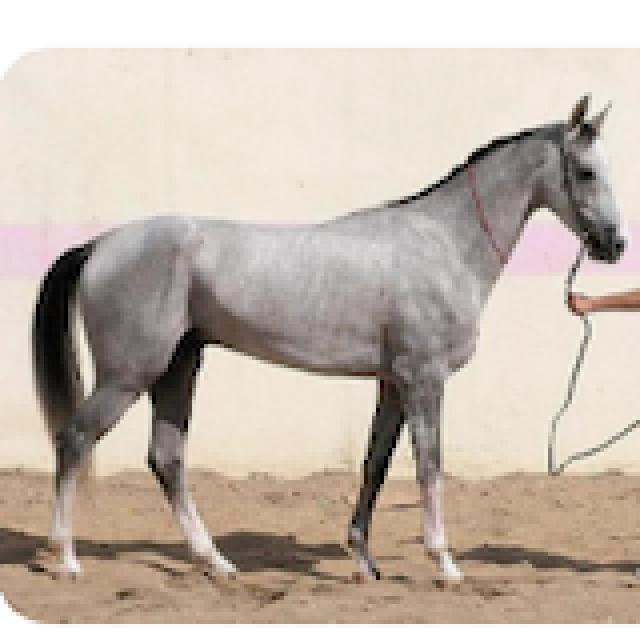Horse: (20, 88, 636, 592)
